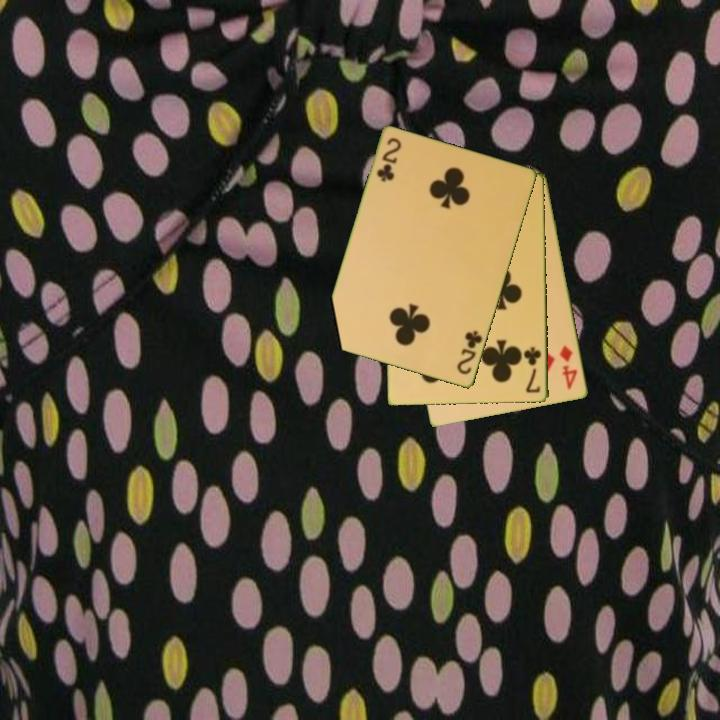2c: (454, 327, 486, 378), (373, 134, 404, 185)
4d: (556, 342, 581, 392)
7c: (522, 343, 544, 396)
